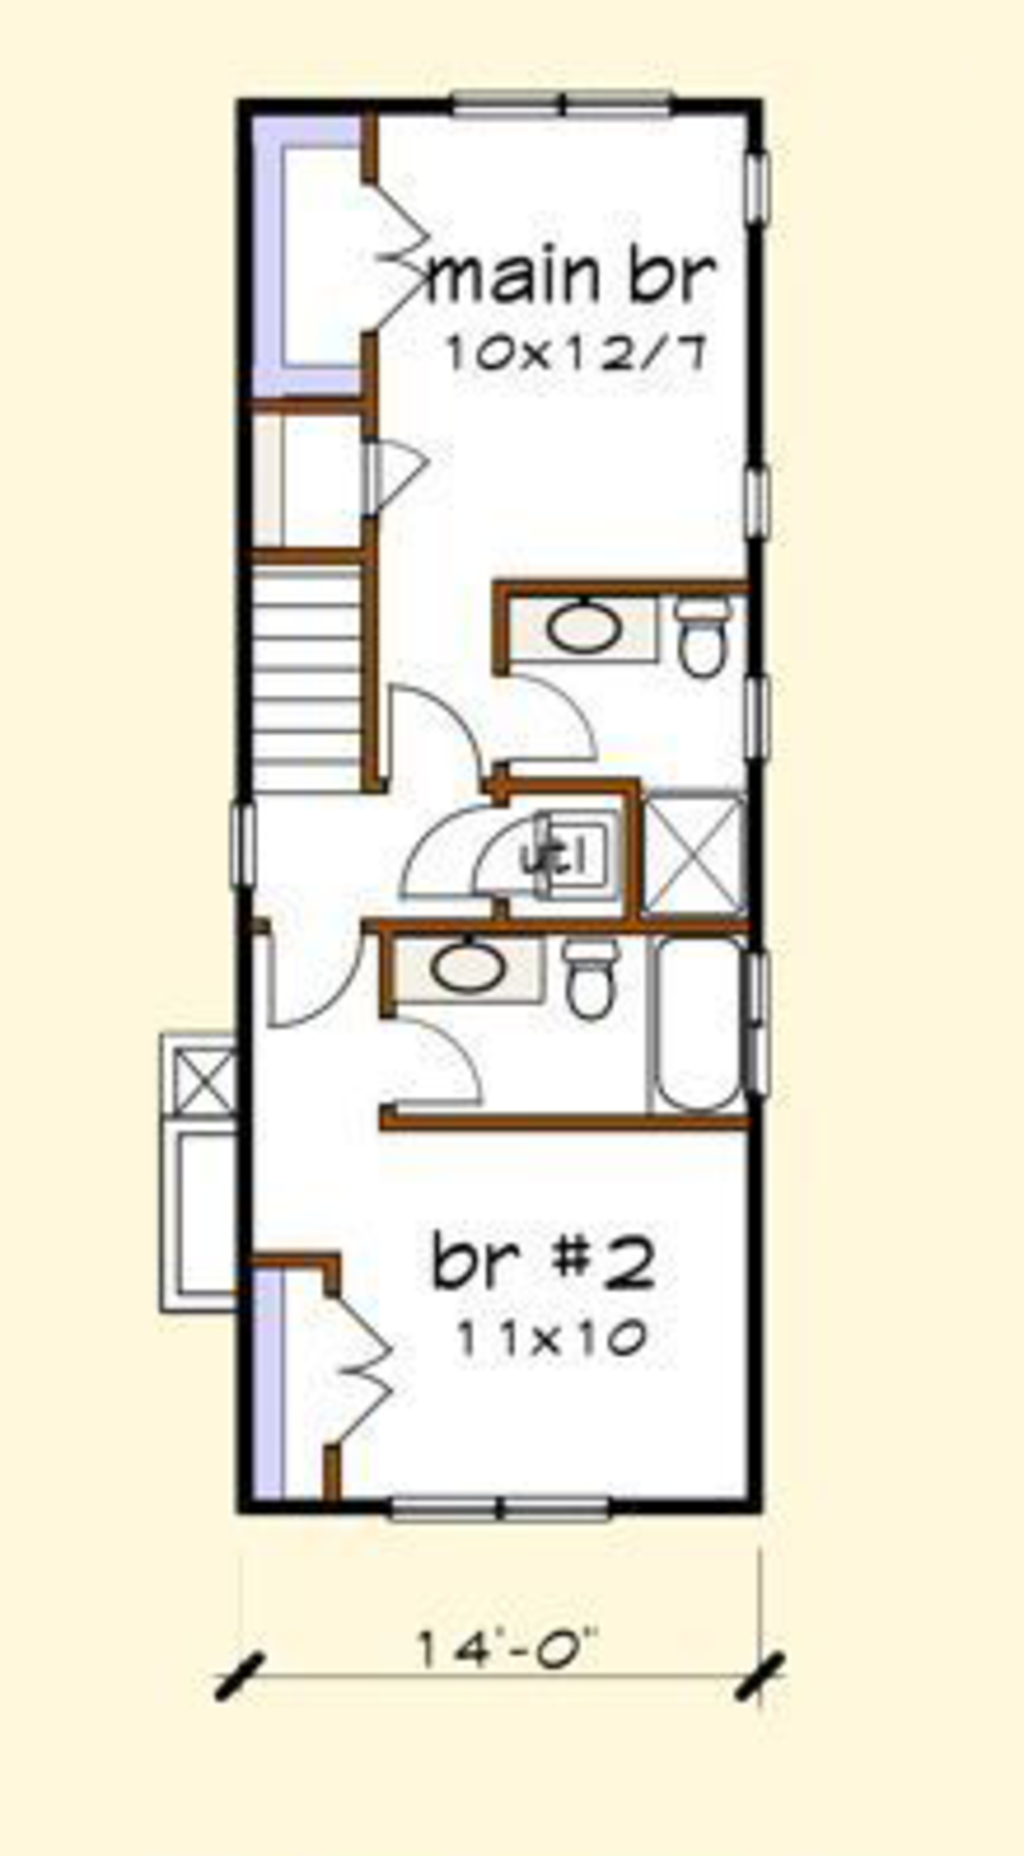door: (393, 789, 536, 912), (310, 1281, 412, 1449), (348, 171, 441, 332), (368, 672, 493, 789), (262, 909, 368, 1031), (488, 664, 608, 772), (380, 1007, 493, 1112), (346, 421, 436, 532)
large_sink: (549, 927, 625, 1031), (670, 598, 736, 687)
small_sink: (390, 924, 545, 1015), (516, 588, 656, 672)
stairs: (250, 561, 376, 801)
tub: (648, 920, 745, 1121)
window: (385, 1478, 625, 1532), (448, 72, 668, 124), (730, 451, 789, 548), (728, 672, 800, 749), (748, 148, 779, 248)
